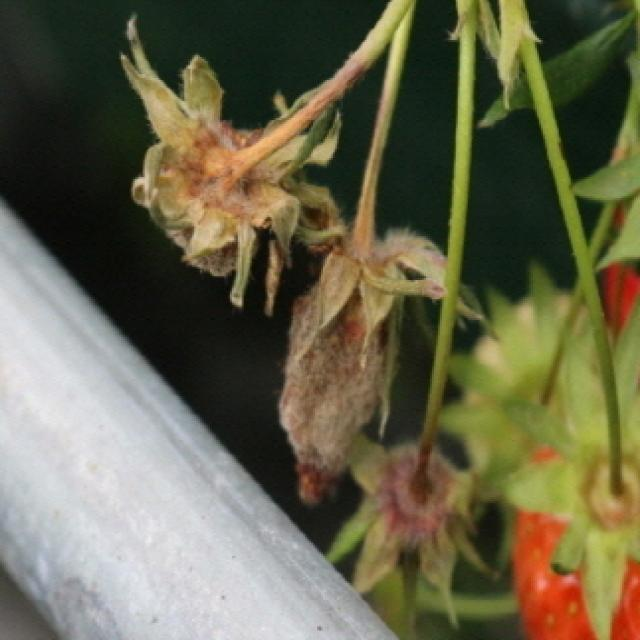Gray Mold: (119, 15, 362, 314), (280, 178, 448, 505)
